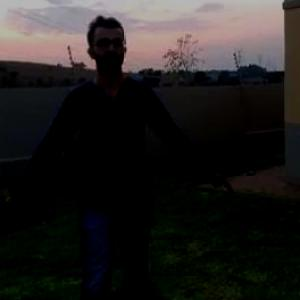land: (7, 20, 212, 288)
